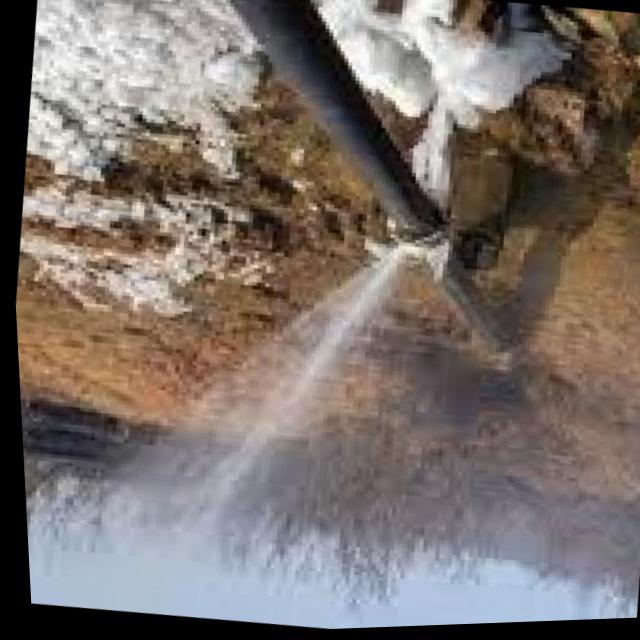leak: (26, 212, 415, 612)
